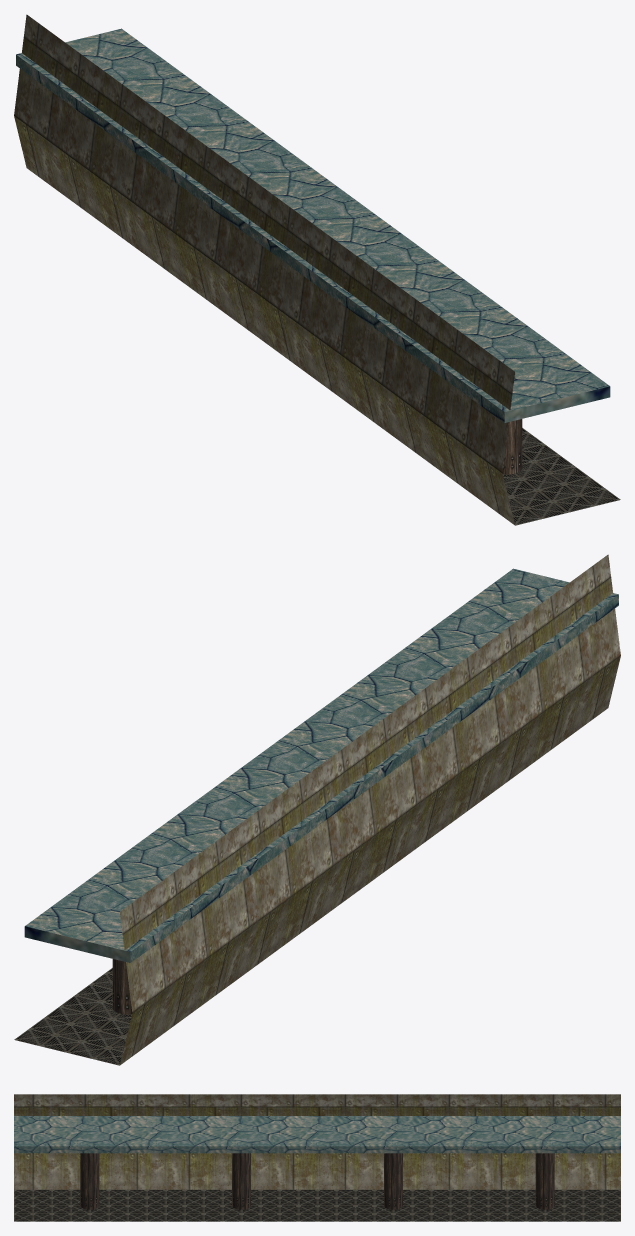
Rendered from level.obj.
3 renders of one model, top to bottom at view 1: azimuth 30°, elevation 25°; view 2: azimuth 150°, elevation 25°; view 3: azimuth 270°, elevation 25°, orthographic. The views are drawn at different scales.
Parts seen in each view (by area): view 1: Plane.001, Cube_Cube.001, Plane, Cylinder.003; view 2: Plane.001, Cube_Cube.001, Plane, Cylinder.003; view 3: Plane.001, Cube_Cube.001, Plane, Cylinder.003.
Boxes of the visible parts, x1,y1,x2,y2 form: Plane.001: (14, 14, 514, 525); Cube_Cube.001: (16, 28, 610, 422); Plane: (503, 428, 620, 525); Cylinder.003: (502, 419, 522, 474); Plane.001: (120, 554, 620, 1065); Cube_Cube.001: (24, 568, 618, 962); Plane: (14, 968, 131, 1065); Cylinder.003: (112, 959, 132, 1014); Plane.001: (14, 1094, 620, 1189); Cube_Cube.001: (14, 1116, 620, 1153); Plane: (14, 1189, 620, 1221); Cylinder.003: (80, 1153, 554, 1209).
Bounding box in the file's own units: 2.24 × 2.78 × 16.
Materials: 4 (4 with a texture image).
